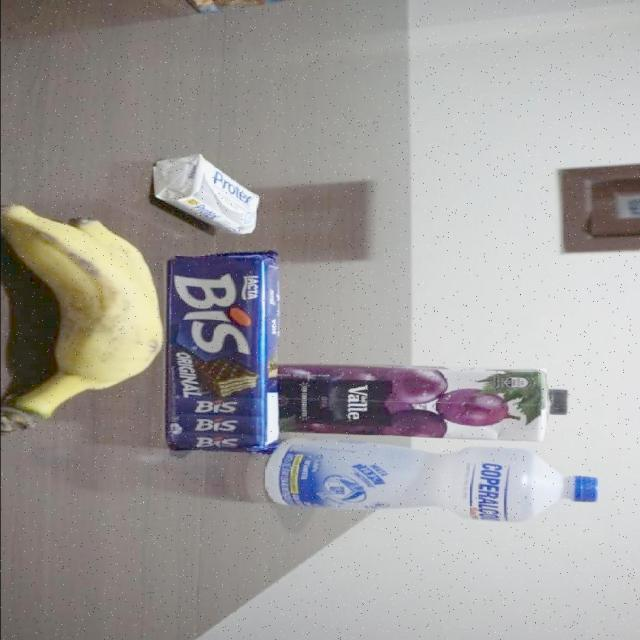AlcoholBottle: (257, 438, 598, 523)
Banana: (0, 202, 167, 438)
Cracker: (170, 0, 412, 17)
Soap: (151, 152, 262, 236)
